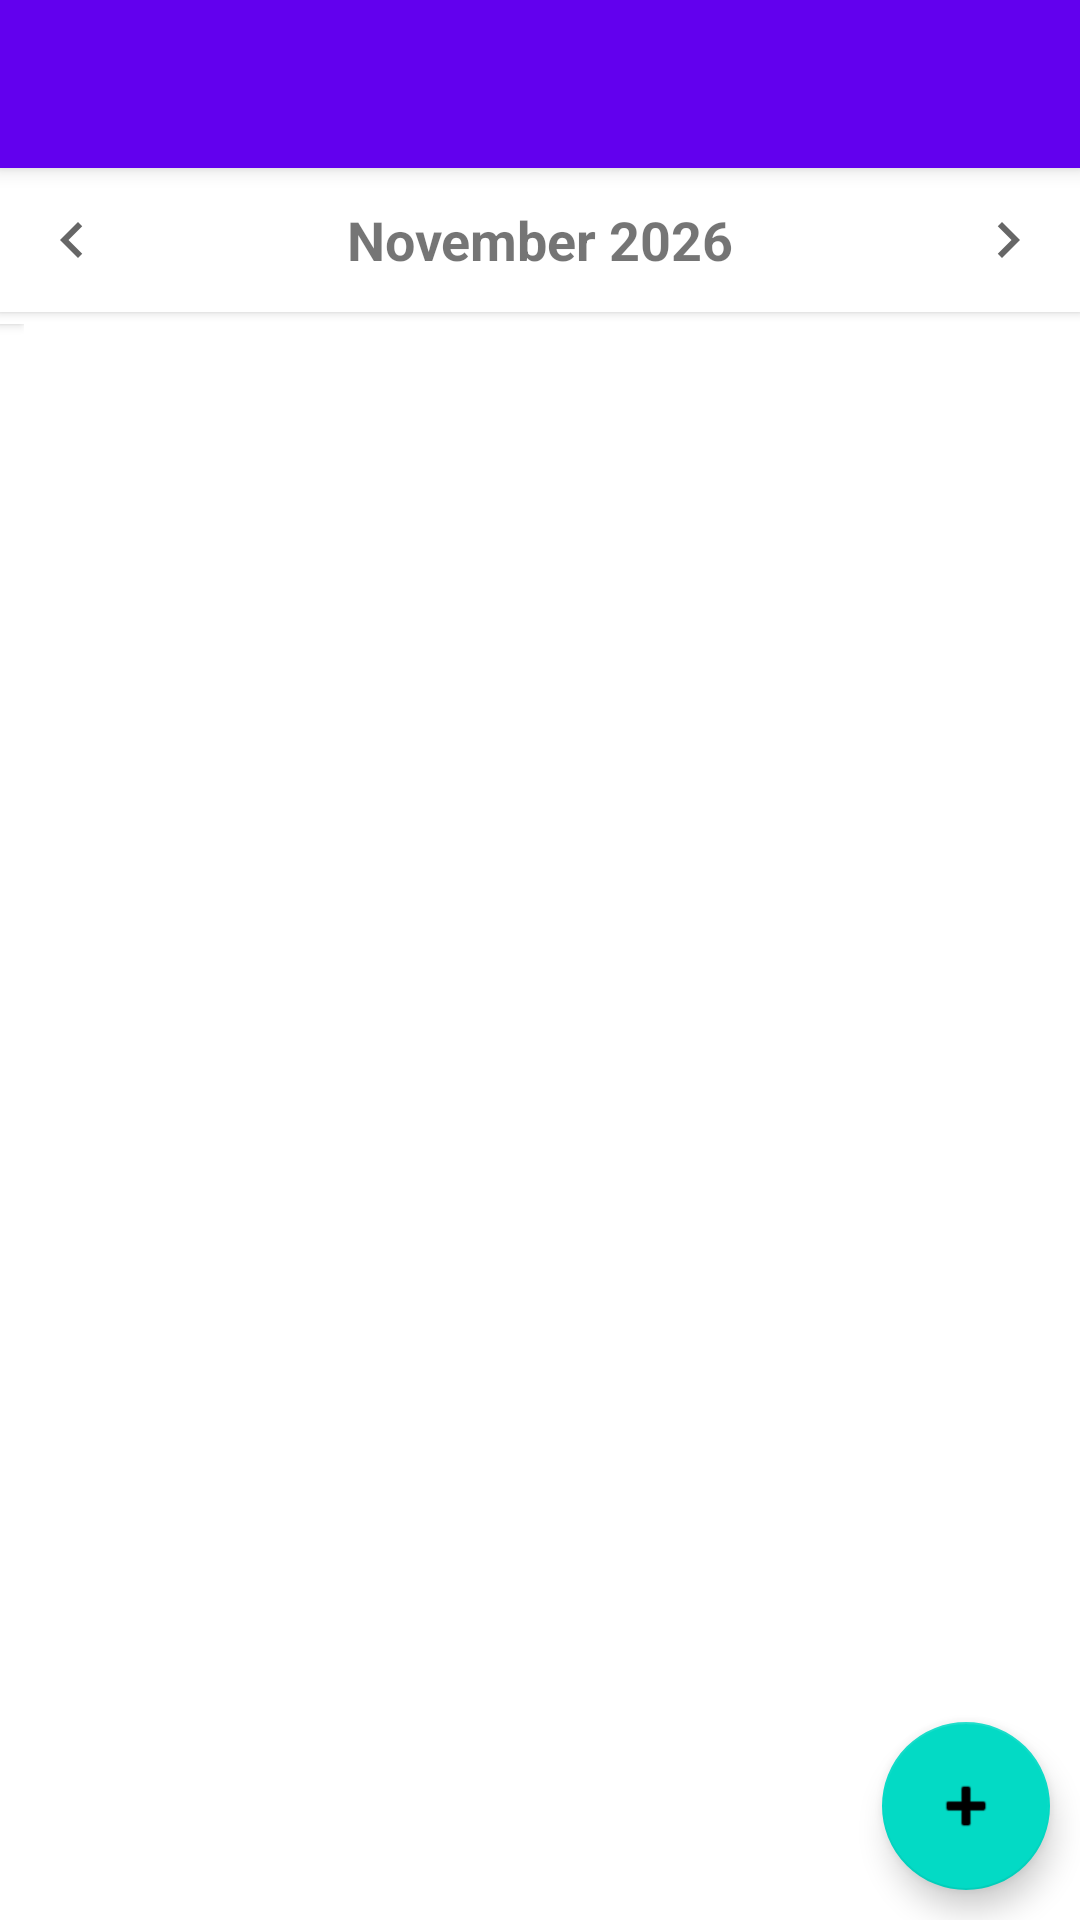

Locate icon controls on the screen. Image size 1080*1920, boxes as box=[x1, y1, x2, y2].
Add a new chore: box=[882, 1722, 1050, 1890]
Next: box=[998, 222, 1020, 258]
Previous: box=[60, 222, 82, 258]
